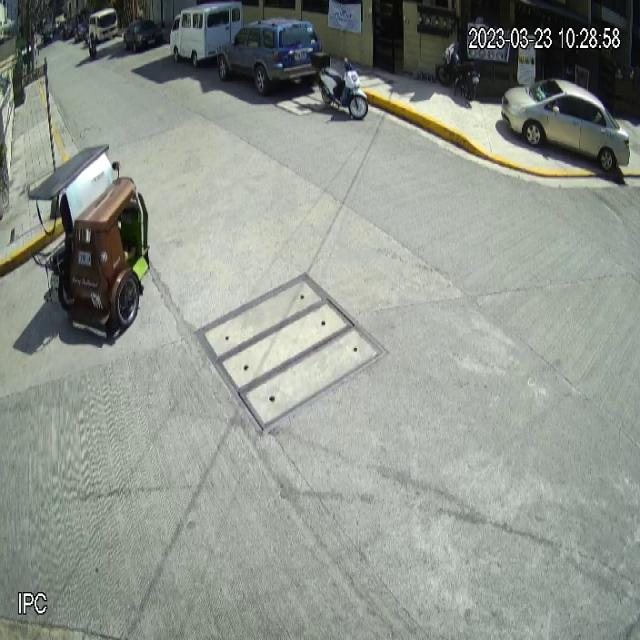Car: (502, 76, 630, 174), (215, 18, 323, 95)
Motorcycle: (315, 56, 369, 121)
Tricycle: (26, 140, 151, 338)
Van: (169, 1, 244, 68)
